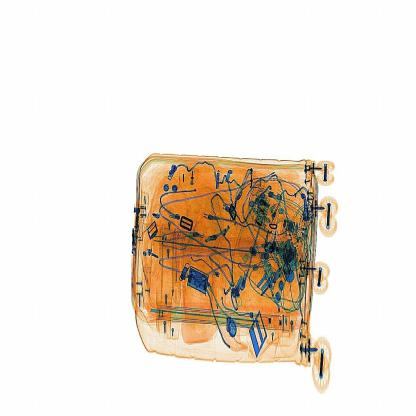pliers: (169, 224, 174, 311)
